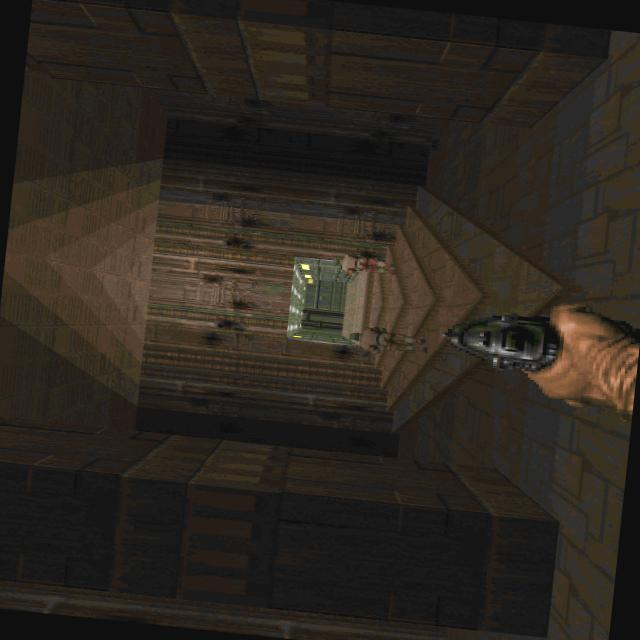handgun: (436, 299, 592, 378)
